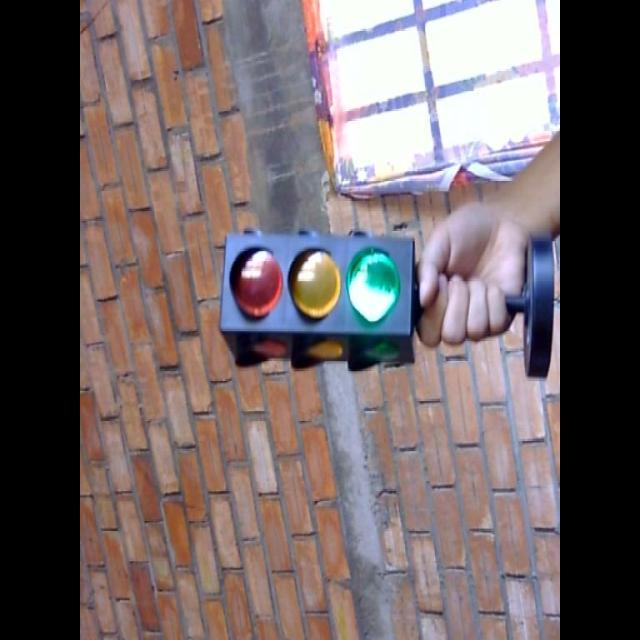green light: (343, 242, 410, 326)
